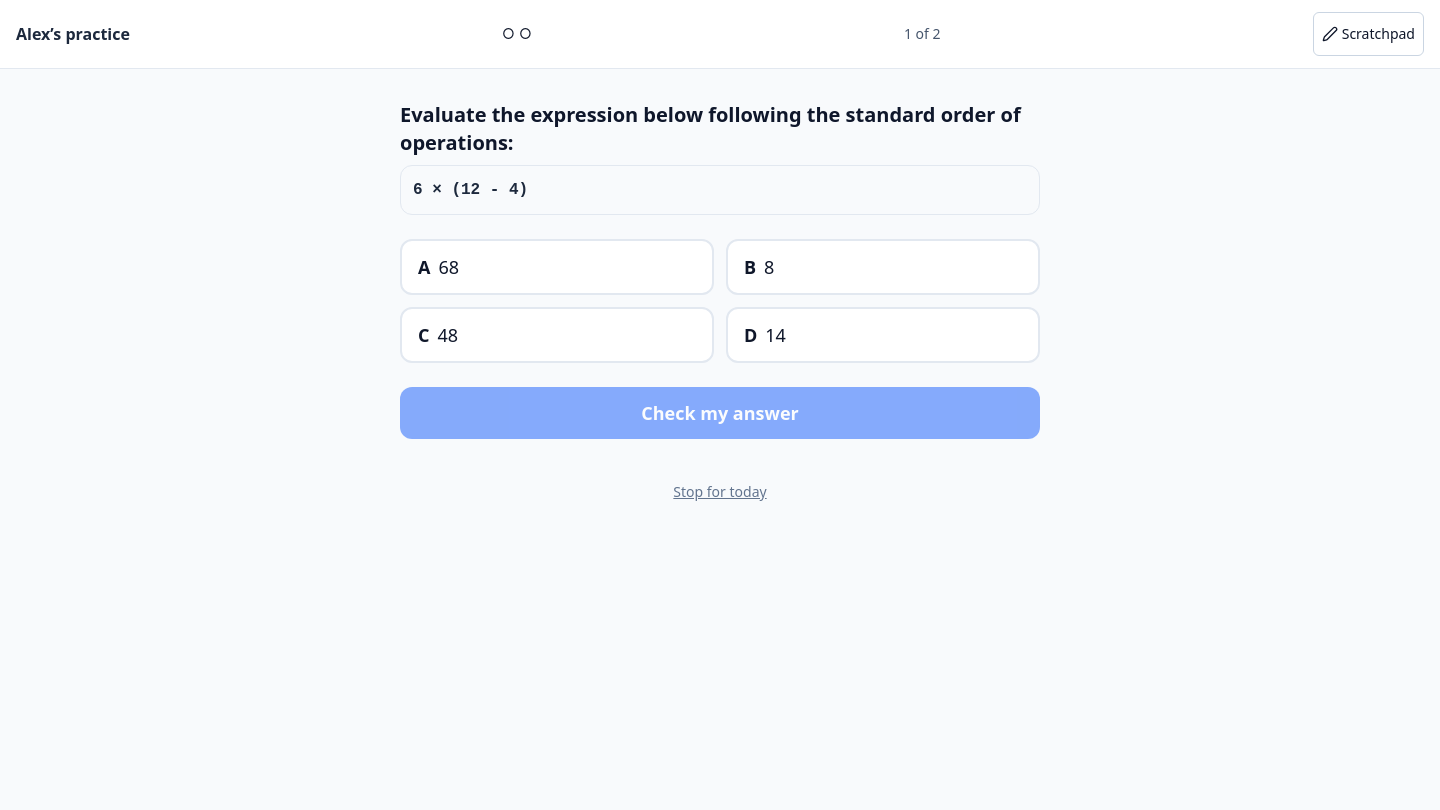
KidPractice › explains a wrong answer and does not allow a retry
This screenshot has width=1440, height=810.
Click the button "A68".
click(424, 267)  # box [400,239,714,295]
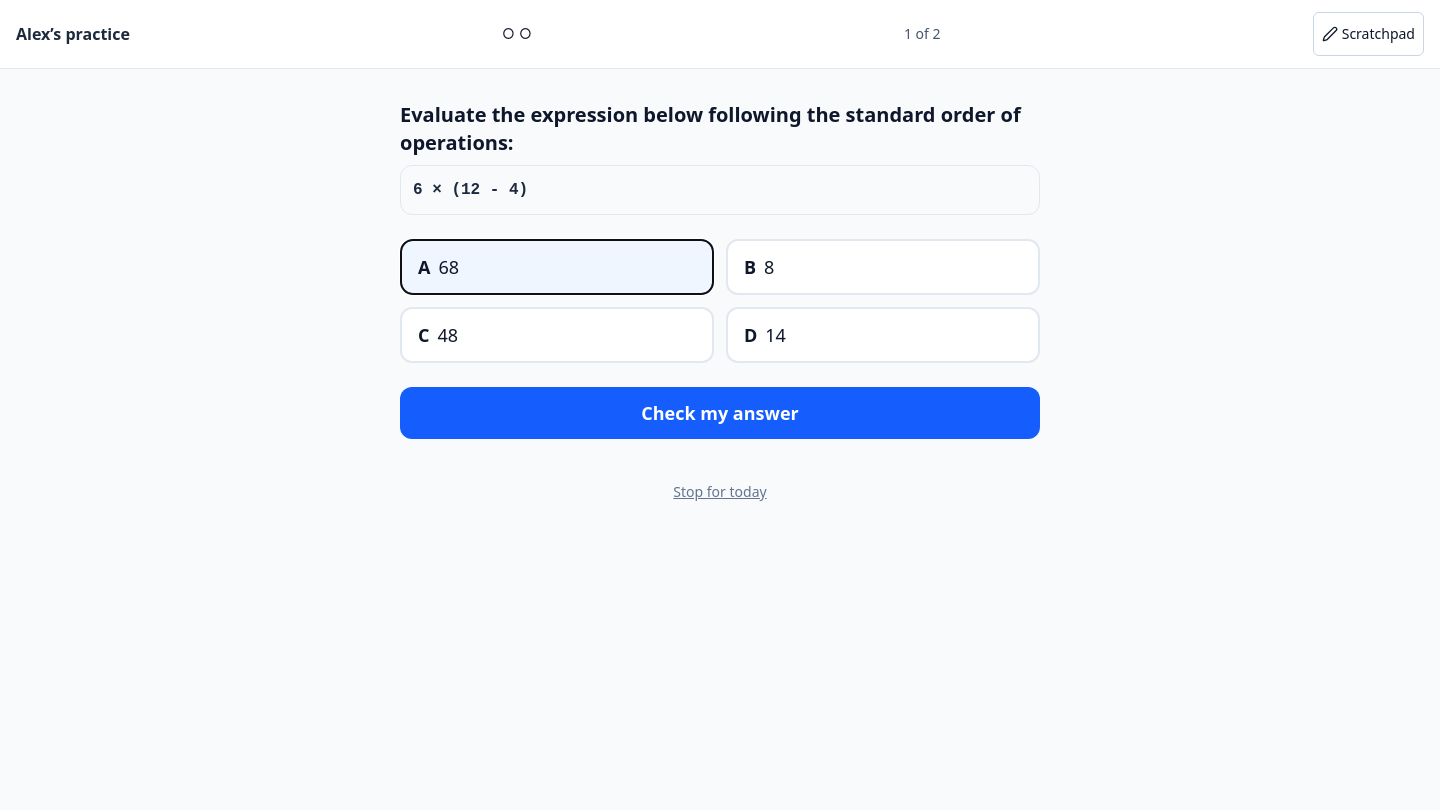
Click the button "Check my answer".
click(720, 413)  # box [400,387,1040,439]
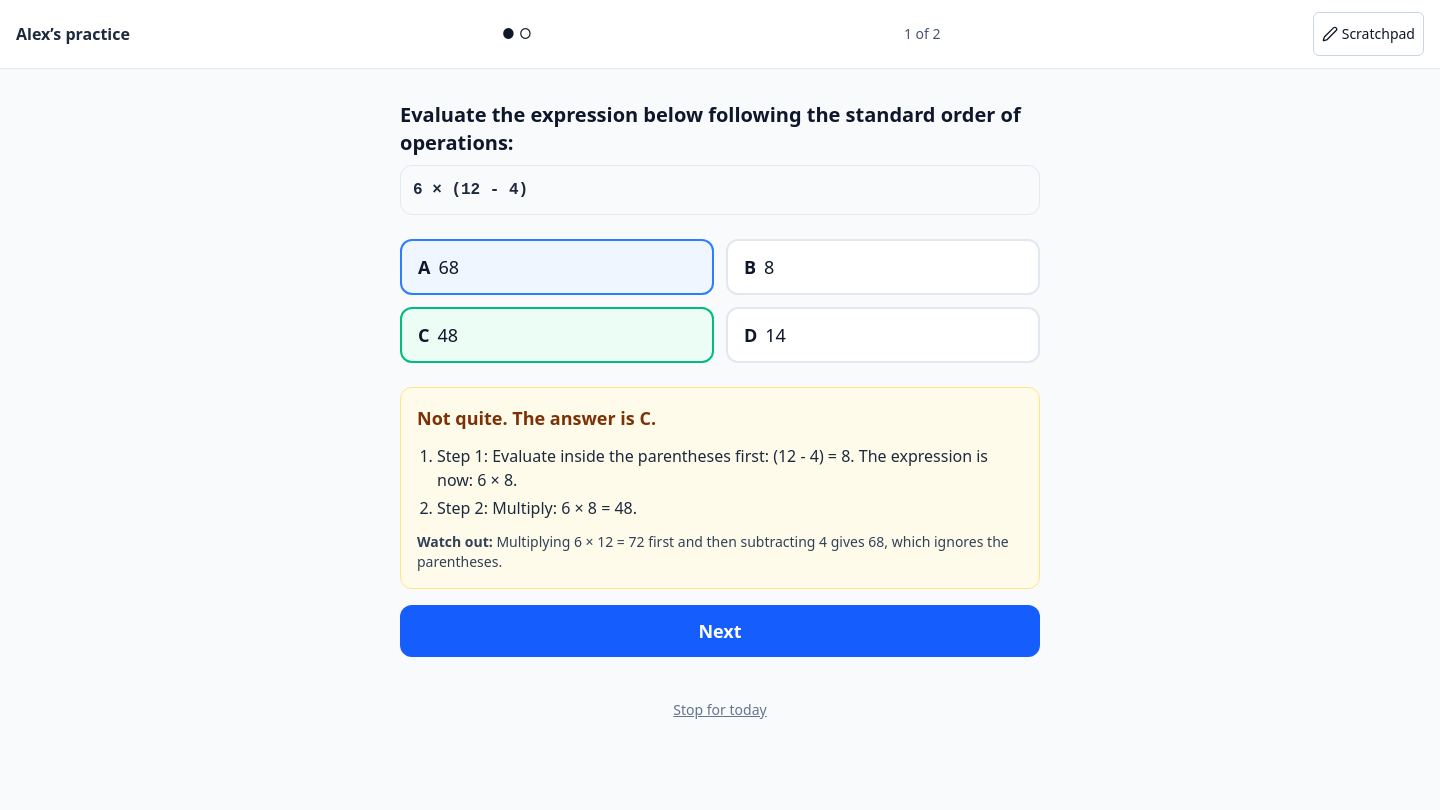
expect the list item "Step 1: Evaluate inside the parentheses first: (12 - 4) = 8. The expression is now: 6 × 8." is shown: met, box [437,445,988,491]
expect the button "Check my answer" is gone: met
